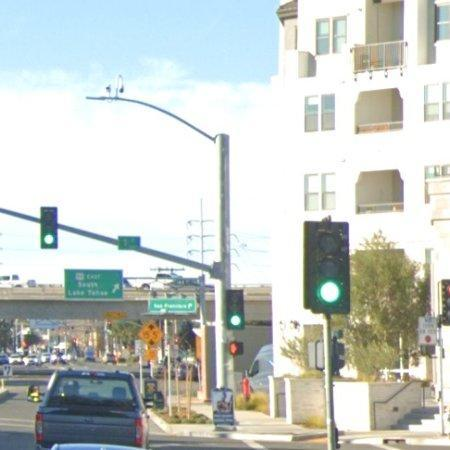traffic lights: (302, 221, 351, 315), (40, 205, 58, 252)
